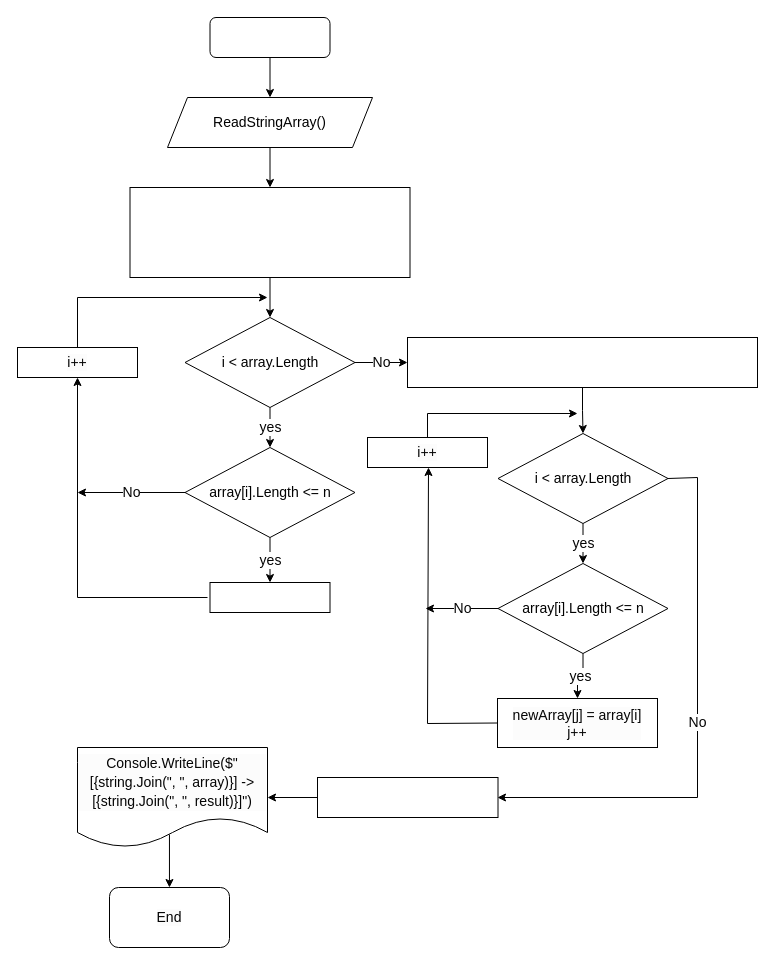
This 775x965 diagram has some shape labels left out. The shapes that lost their labels are listed below. From the top down, each one's centre as x and y in pixels, then its label:
the point at 269,37: Start
the point at 269,232: string [ ] array = ReadStringArray() int n = 3 int count = 0 int i = 0 int j = 0
the point at 582,362: string[] newArray = new string[count]
the point at 269,597: count++
the point at 407,797: string[] result = newArray
